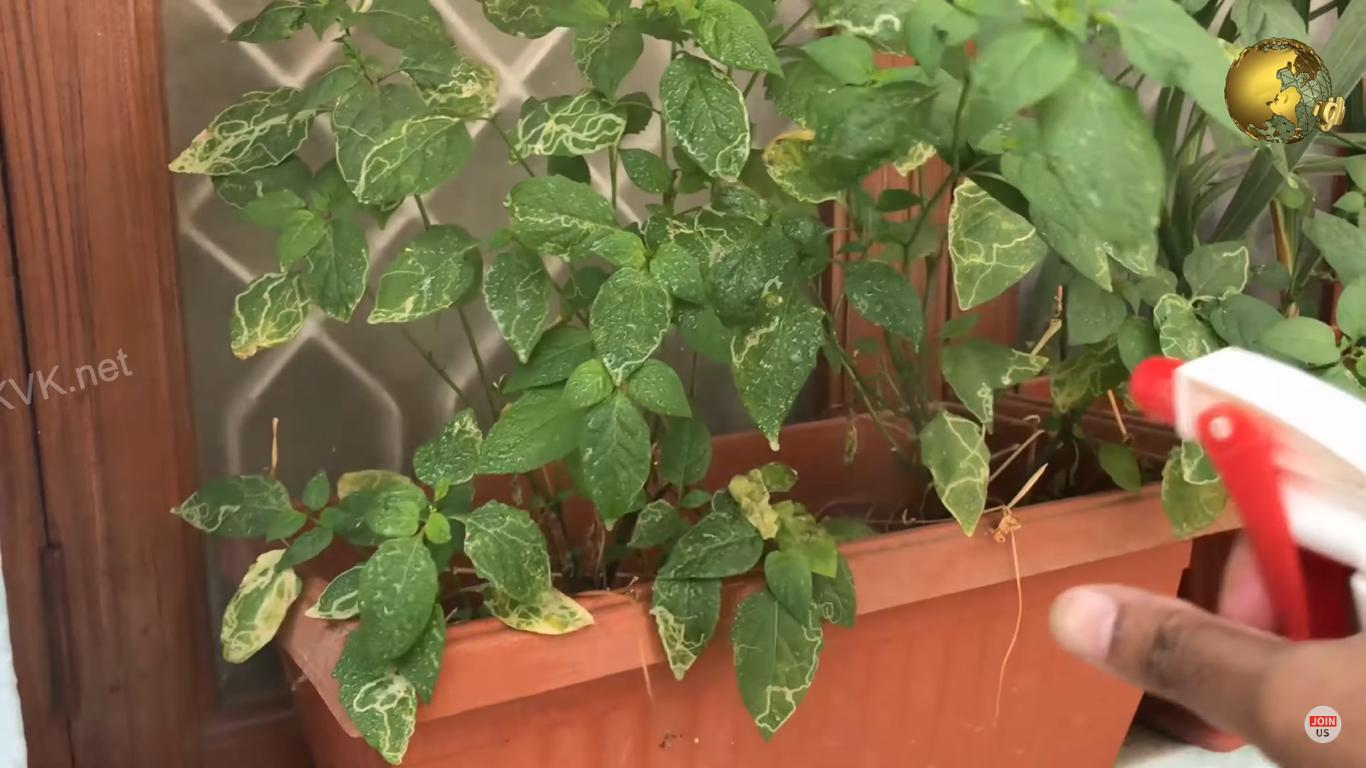Healthy: (1259, 316, 1341, 366)
Leaf_Miner: (1036, 65, 1166, 279), (726, 266, 827, 450), (999, 149, 1114, 294), (165, 84, 319, 177), (732, 585, 824, 739), (331, 81, 423, 231), (944, 177, 1047, 310), (658, 53, 750, 181), (367, 222, 476, 324), (356, 113, 474, 206), (588, 265, 674, 386), (503, 173, 622, 257), (462, 499, 554, 607), (914, 411, 991, 538), (221, 549, 305, 661), (508, 88, 628, 165), (166, 471, 292, 542), (399, 35, 499, 120), (485, 245, 551, 364), (647, 575, 722, 679), (342, 666, 418, 768), (230, 268, 310, 361), (638, 207, 744, 276), (1157, 439, 1228, 542), (301, 219, 371, 323), (481, 582, 595, 636), (762, 129, 843, 205), (1047, 339, 1128, 415), (572, 20, 644, 104), (412, 406, 485, 486), (939, 344, 994, 434), (1152, 294, 1223, 363), (1182, 238, 1250, 302), (811, 0, 904, 45), (302, 558, 367, 619), (811, 550, 858, 632), (476, 0, 558, 39), (993, 339, 1051, 391), (627, 496, 681, 549), (890, 131, 938, 179)
